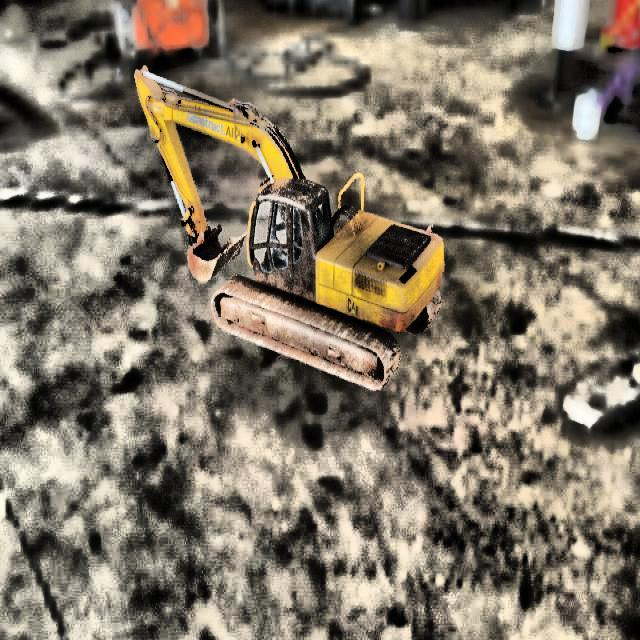excavator: (134, 63, 444, 390)
